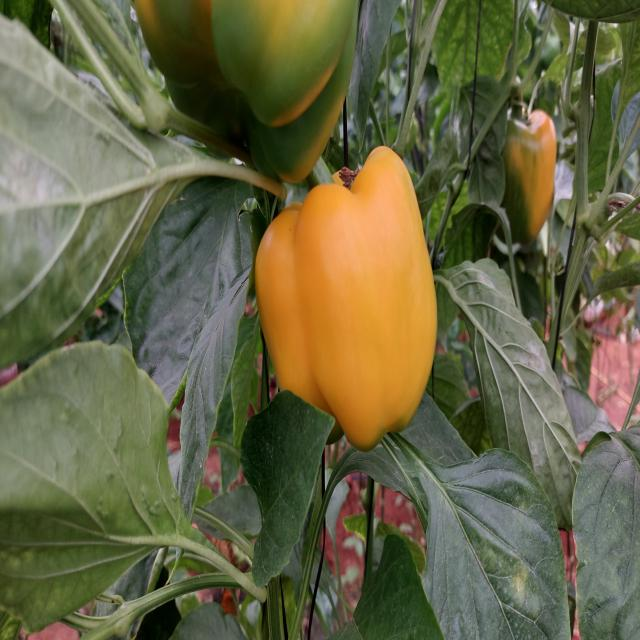Yellow-Ready-to-Harvest: (256, 145, 438, 452), (514, 107, 557, 244)
